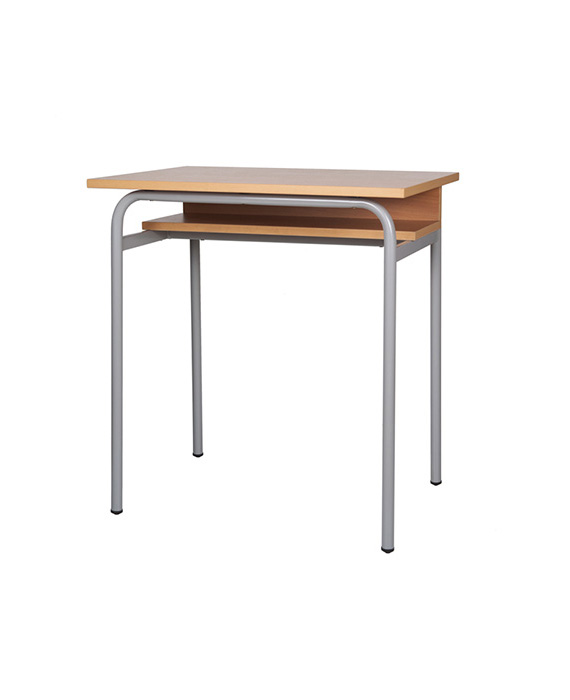m01: (86, 163, 461, 557)
